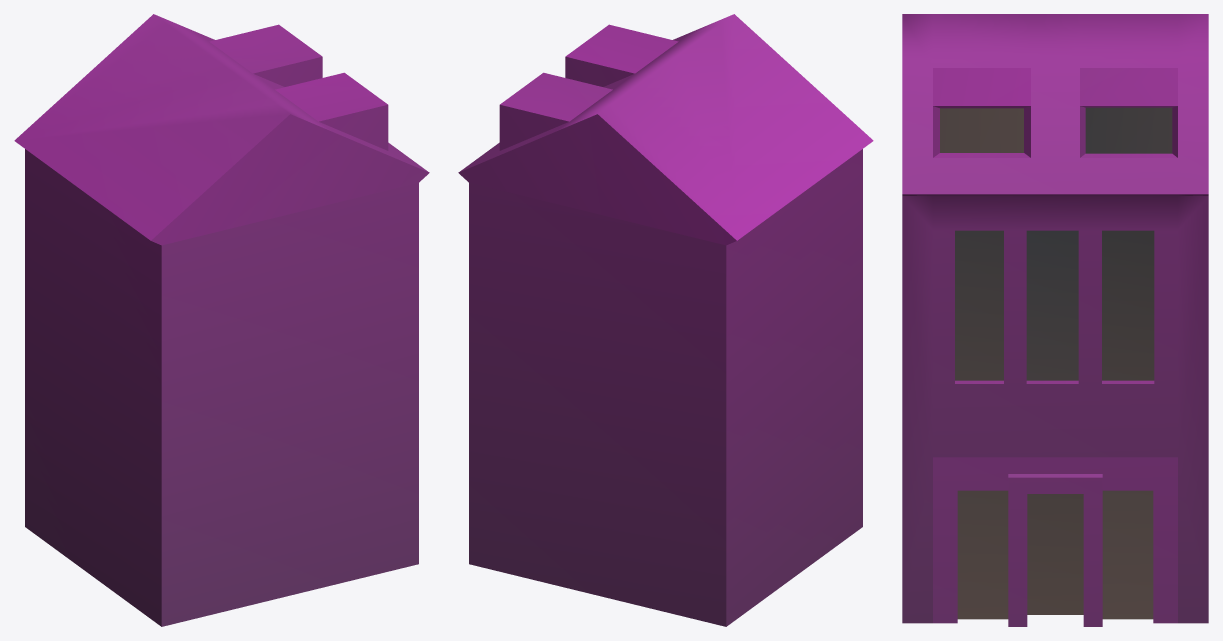
The model's file is Building 3.fbx.
3 renders of one model, left to right at view 1: azimuth 30°, elevation 25°; view 2: azimuth 150°, elevation 25°; view 3: azimuth 270°, elevation 25°, orthographic. The views are drawn at different scales.
Parts seen in each view (by area): view 1: buliding_3_var_1; view 2: buliding_3_var_1; view 3: buliding_3_var_1.
Boxes of the visible parts, x1,y1,x2,y2 form: buliding_3_var_1: [14, 14, 429, 626]; buliding_3_var_1: [458, 14, 873, 626]; buliding_3_var_1: [902, 14, 1208, 626].
Bounding box in the file's own units: 4.11 × 6.78 × 3.49.
